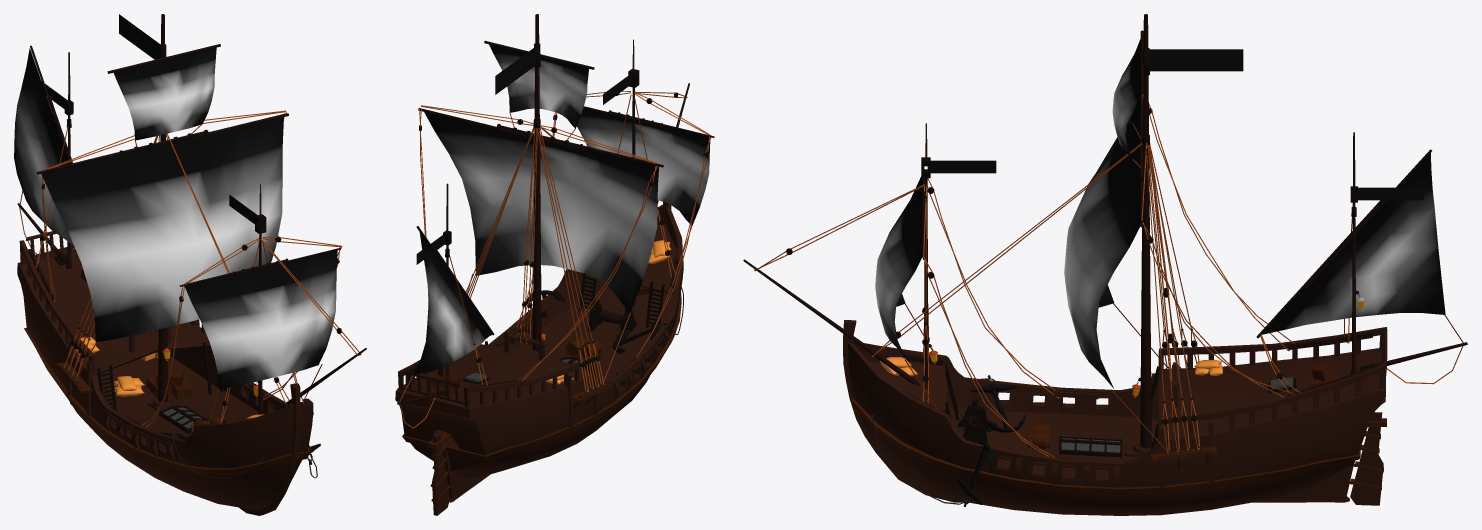
The model's file is Ship 2.fbx.
3 renders of one model, left to right at view 1: azimuth 30°, elevation 25°; view 2: azimuth 150°, elevation 25°; view 3: azimuth 270°, elevation 25°, orthographic. The views are drawn at different scales.
Parts seen in each view (by area): view 1: Sails, Ship, Detail, Flags; view 2: Ship, Sails, Detail, Flags; view 3: Ship, Sails, Flags, Detail.
Part boxes in pixels (x1=…): Sails: x1=14, y1=47, x2=337, y2=389; Ship: x1=17, y1=14, x2=366, y2=515; Detail: x1=75, y1=269, x2=263, y2=433; Flags: x1=41, y1=14, x2=257, y2=224; Ship: x1=395, y1=14, x2=714, y2=515; Sails: x1=413, y1=44, x2=710, y2=375; Detail: x1=430, y1=240, x2=671, y2=389; Flags: x1=416, y1=46, x2=631, y2=264; Ship: x1=743, y1=14, x2=1467, y2=515; Sails: x1=875, y1=39, x2=1445, y2=388; Flags: x1=930, y1=49, x2=1424, y2=200; Detail: x1=880, y1=290, x2=1365, y2=454.
Size of the model in its own units: 106 by 176 by 236.
